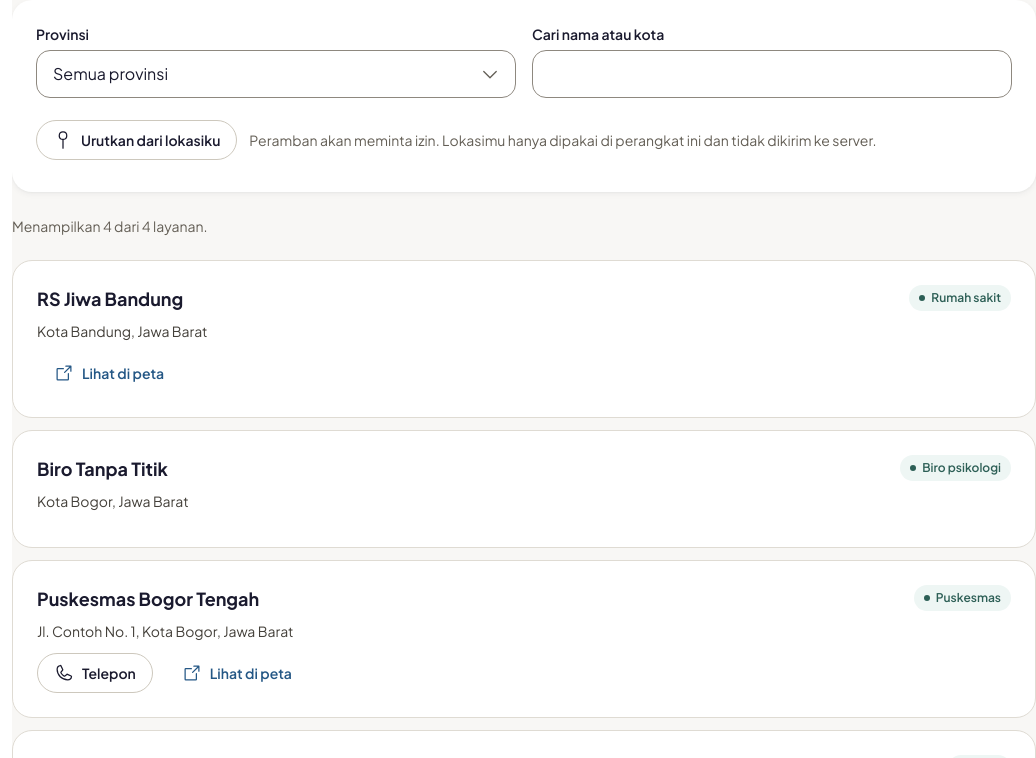
Test: FacilityDirectory › lokasi › unavailable: pesan yang jelas dan daftar tetap bisa dipakai
What coordinates should you click on to do the following:
click the button "Urutkan dari lokasiku"
I would click on:
 (137, 140)
Its box is [36,120,237,160].
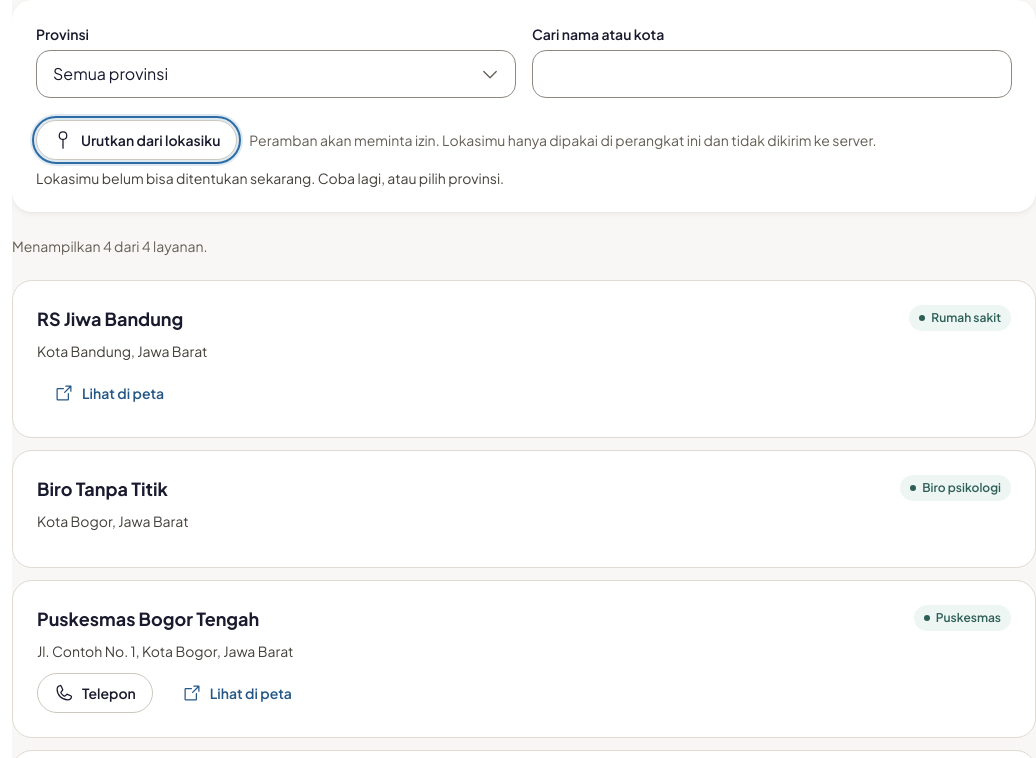
Now the text "Lokasimu belum bisa ditentukan sekarang. Coba lagi, atau pilih provinsi." is shown, box [36,169,504,187]
